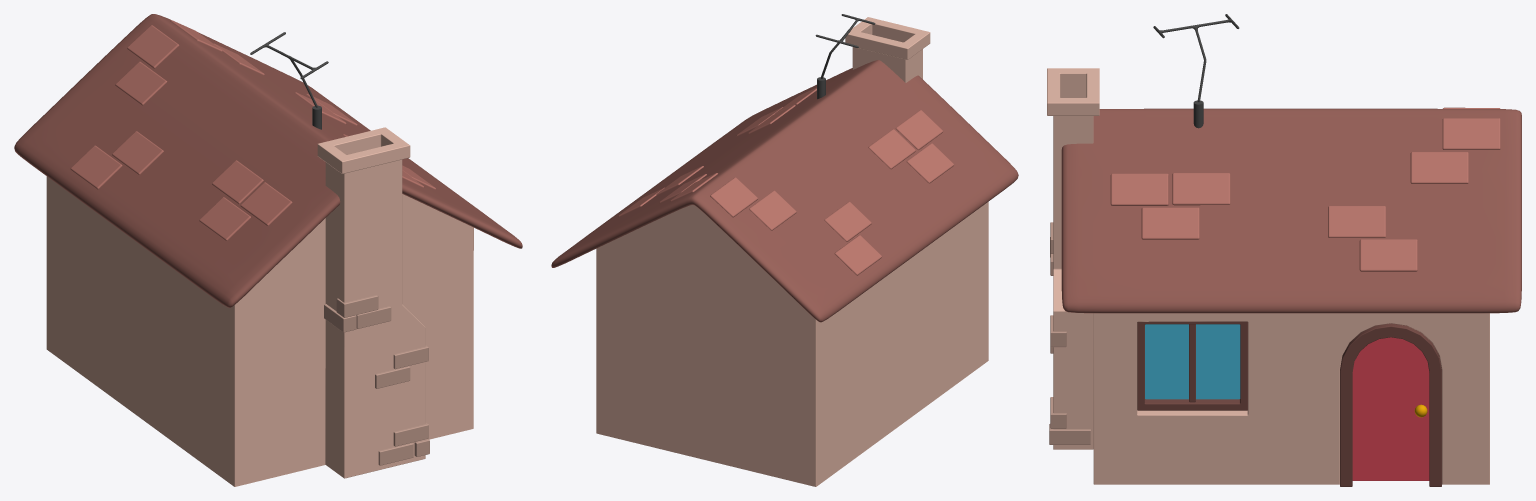
The model's file is house.glb.
3 renders of one model, left to right at view 1: azimuth 30°, elevation 25°; view 2: azimuth 150°, elevation 25°; view 3: azimuth 270°, elevation 25°, orthographic. The views are drawn at different scales.
Parts seen in each view (by area): view 1: House, Roof, Chimney, Shingle.005, Shingle.006, Shingle.004, Shingle.003, Shingle.002, Shingle, Shingle.001, Brick.003, Brick (+5 smaller); view 2: House, Roof, Chimney, Shingle.005, Shingle.003, Shingle.001, Shingle.004, Shingle.006, Shingle.002, Shingle; view 3: Roof, House, Door, Chimney, Door Frame, Window, Shingle.005, Shingle.002, Shingle, Shingle.004, Shingle.001, Shingle.006 (+4 smaller).
Boxes of the visible parts, x1=… form: House: x1=46, y1=176, x2=473, y2=486; Roof: x1=14, y1=14, x2=522, y2=307; Chimney: x1=317, y1=127, x2=425, y2=478; Shingle.005: x1=127, y1=20, x2=222, y2=68; Shingle.006: x1=115, y1=43, x2=264, y2=105; Shingle.004: x1=70, y1=93, x2=357, y2=189; Shingle.003: x1=112, y1=92, x2=346, y2=174; Shingle.002: x1=199, y1=165, x2=435, y2=240; Shingle: x1=240, y1=170, x2=423, y2=225; Shingle.001: x1=212, y1=134, x2=348, y2=203; Brick.003: x1=336, y1=295, x2=378, y2=317; Brick: x1=393, y1=422, x2=428, y2=446; House: x1=596, y1=202, x2=988, y2=486; Roof: x1=551, y1=60, x2=1018, y2=322; Chimney: x1=845, y1=17, x2=930, y2=82; Shingle.005: x1=670, y1=173, x2=757, y2=217; Shingle.003: x1=656, y1=166, x2=871, y2=241; Shingle.001: x1=748, y1=105, x2=915, y2=169; Shingle.004: x1=618, y1=187, x2=881, y2=275; Shingle.006: x1=659, y1=174, x2=796, y2=230; Shingle.002: x1=736, y1=107, x2=954, y2=183; Shingle: x1=775, y1=87, x2=943, y2=149; Roof: x1=1061, y1=108, x2=1521, y2=313; House: x1=1093, y1=313, x2=1489, y2=484; Door: x1=1352, y1=337, x2=1429, y2=480; Chimney: x1=1047, y1=68, x2=1099, y2=449; Door Frame: x1=1340, y1=323, x2=1441, y2=486; Window: x1=1137, y1=321, x2=1247, y2=410; Shingle.005: x1=1442, y1=107, x2=1500, y2=149; Shingle.002: x1=1141, y1=207, x2=1199, y2=239; Shingle: x1=1110, y1=173, x2=1168, y2=205; Shingle.004: x1=1359, y1=239, x2=1417, y2=271; Shingle.001: x1=1172, y1=173, x2=1230, y2=205; Shingle.006: x1=1410, y1=152, x2=1468, y2=183.
Bounding box in the file's own units: 4.78 × 5.79 × 6.3.
